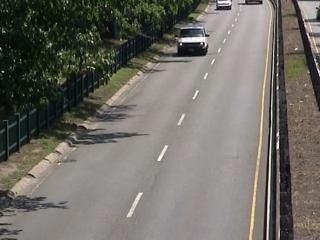car: (214, 1, 234, 11)
truck: (174, 25, 211, 58)
